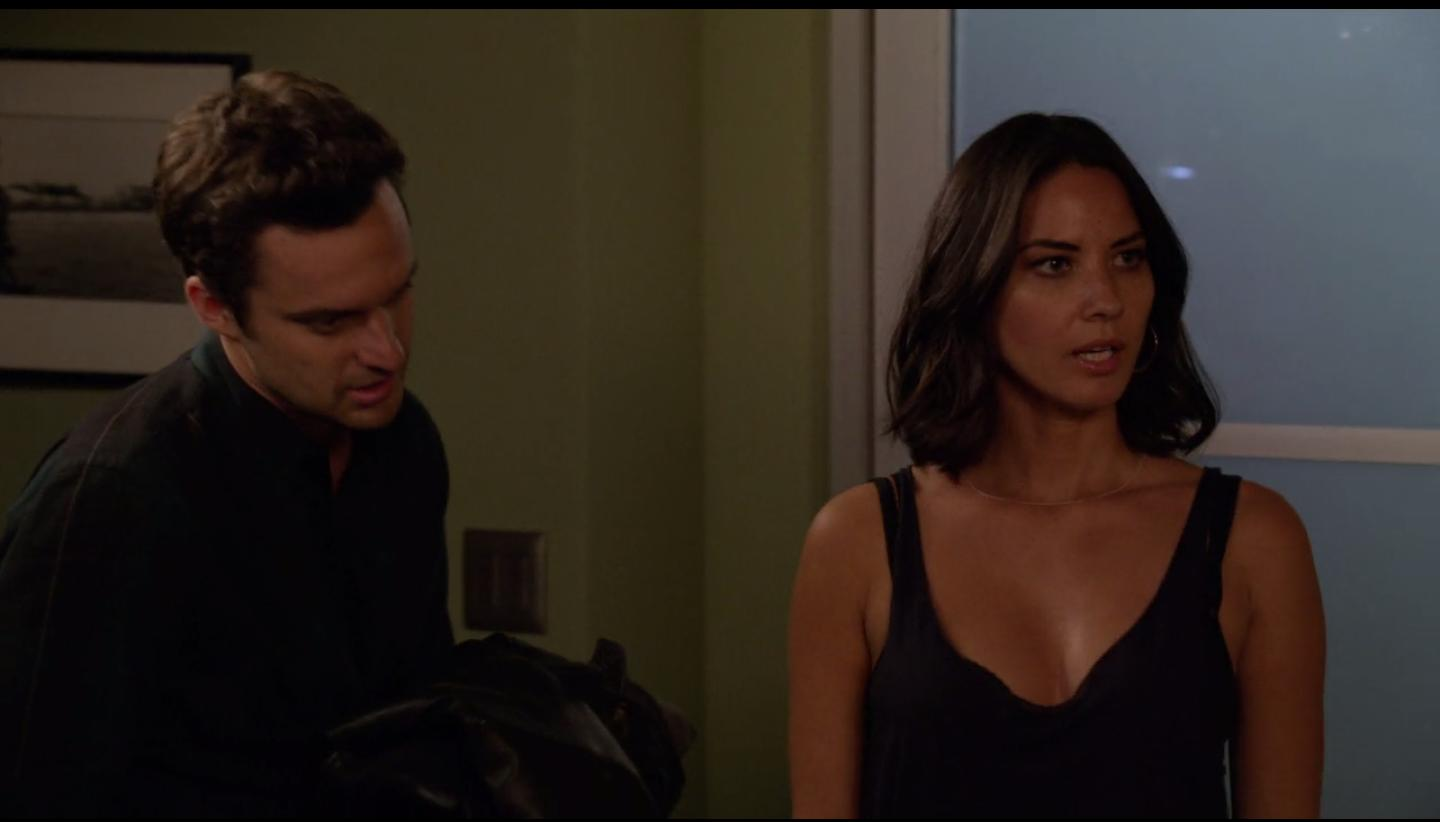person: (18, 62, 565, 808), (769, 109, 1338, 819)
